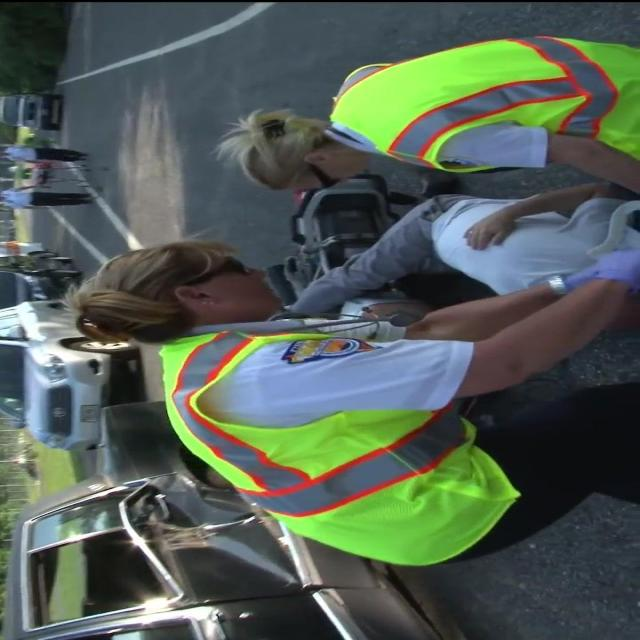jacket: (104, 322, 518, 588), (332, 15, 640, 182)
